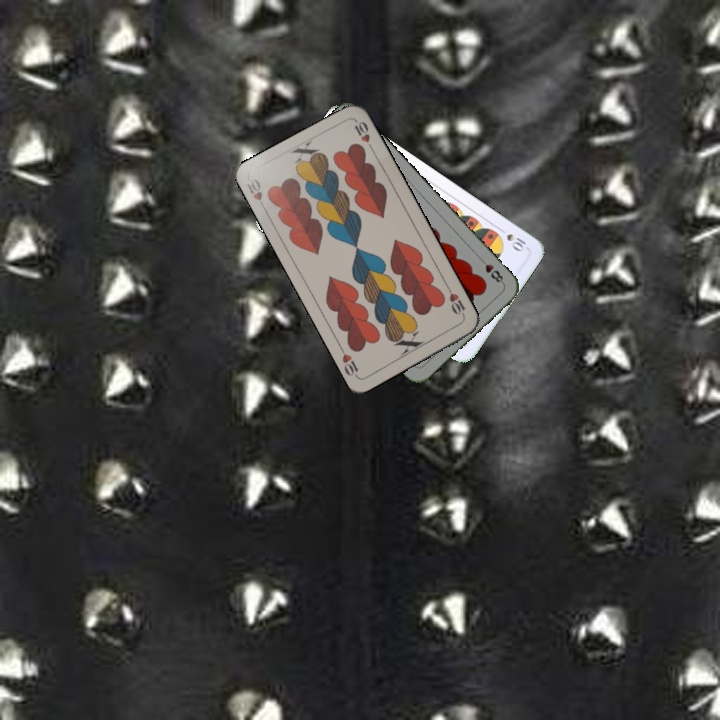H10: (243, 174, 269, 213), (443, 282, 468, 320)
H8: (475, 254, 506, 286)
S10: (494, 223, 529, 255)
